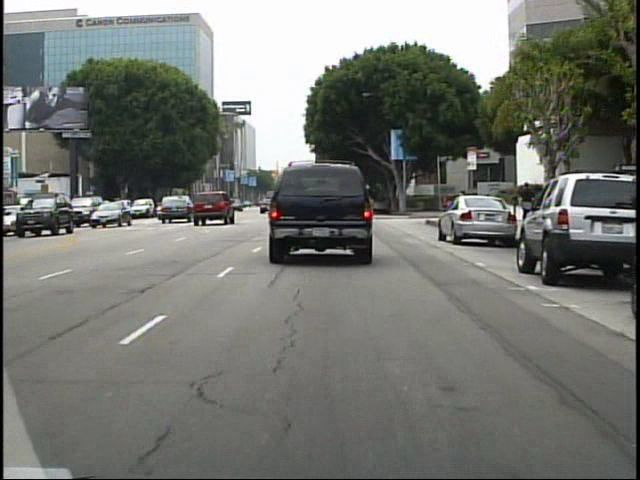person: (514, 177, 537, 230), (452, 186, 471, 227)
